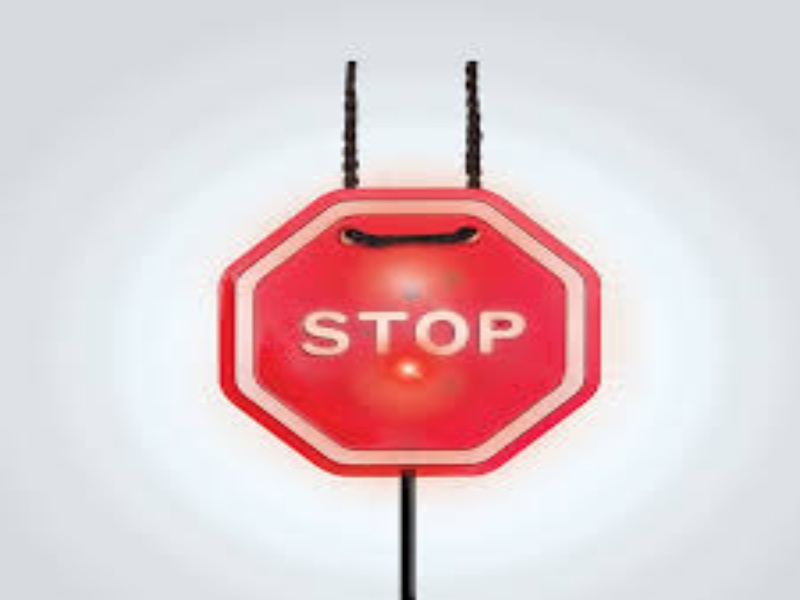Stop_Sign: (213, 190, 605, 477)
